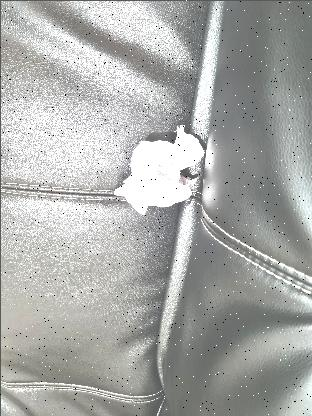Others: (113, 124, 199, 214)
